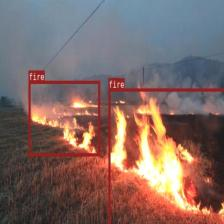fire: (108, 88, 224, 224), (28, 80, 100, 156)
